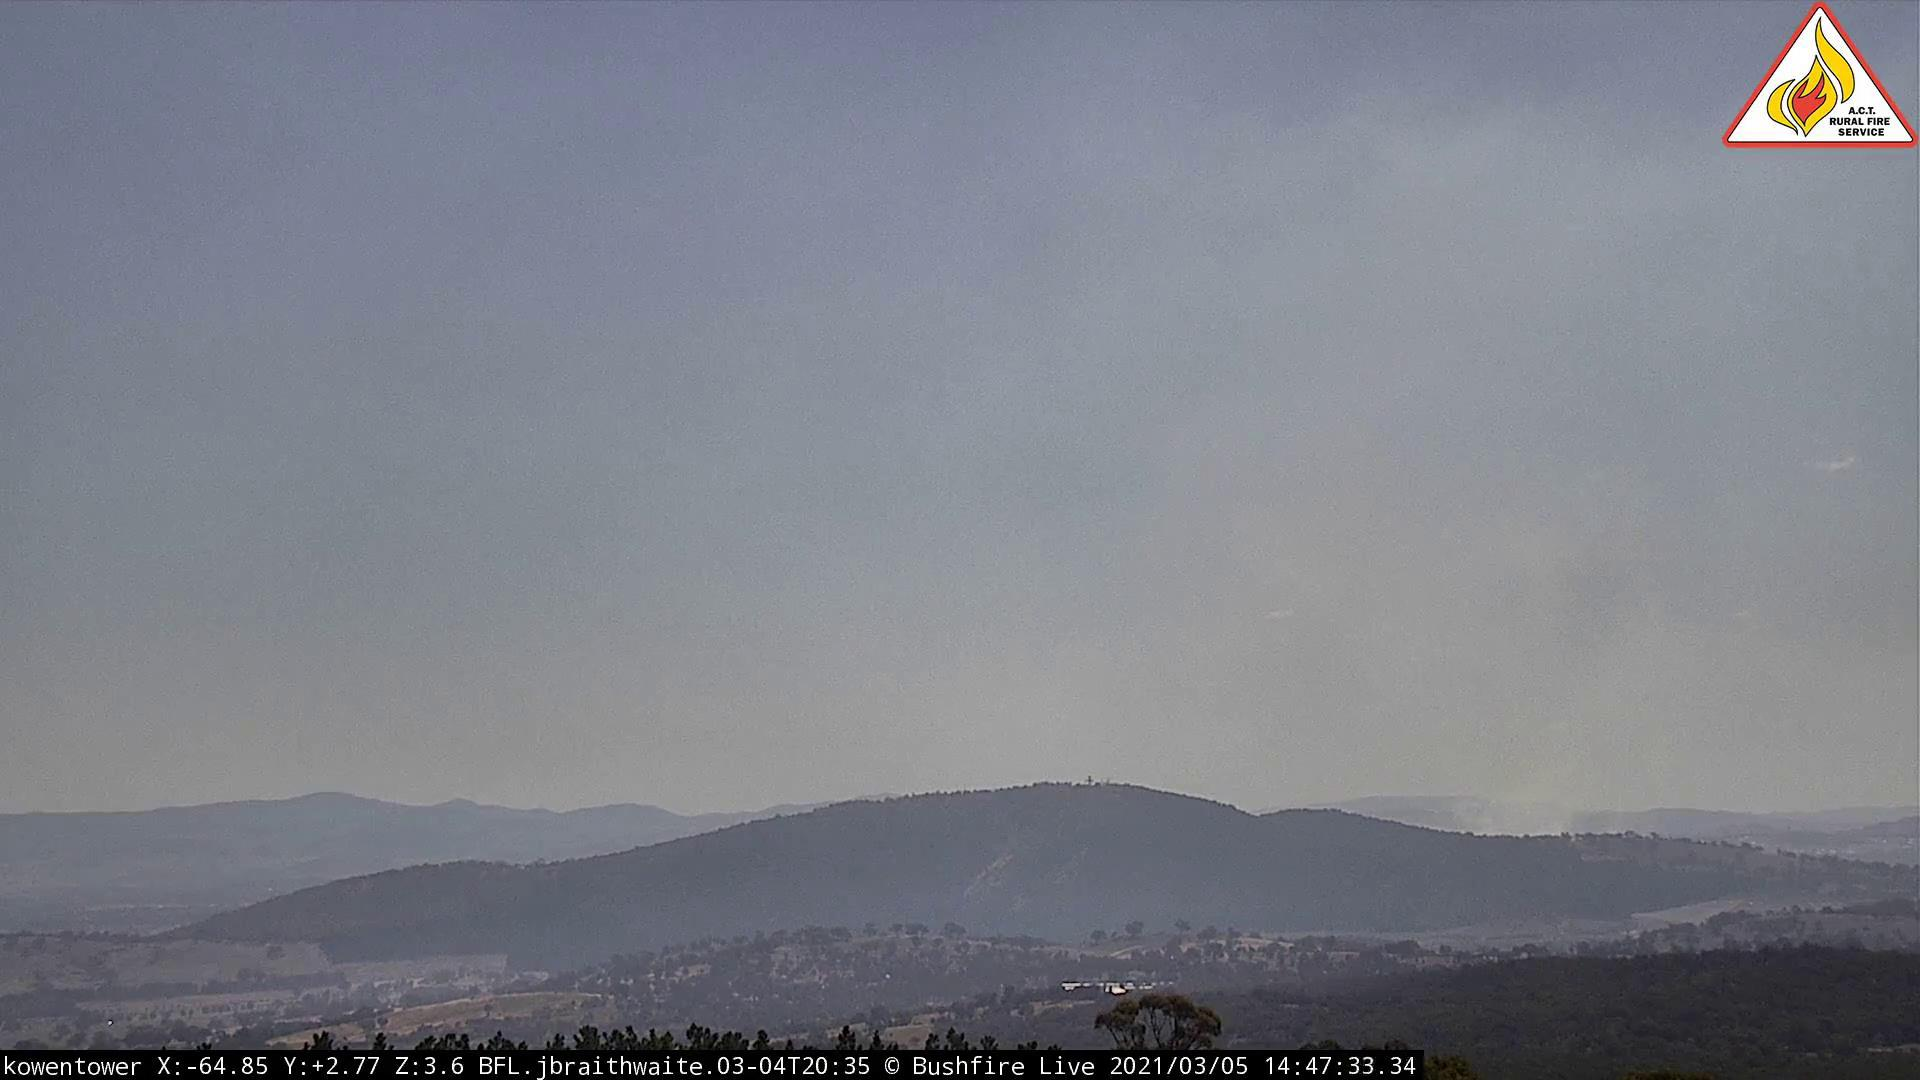instance_salient_object: (1188, 460, 1818, 858)
